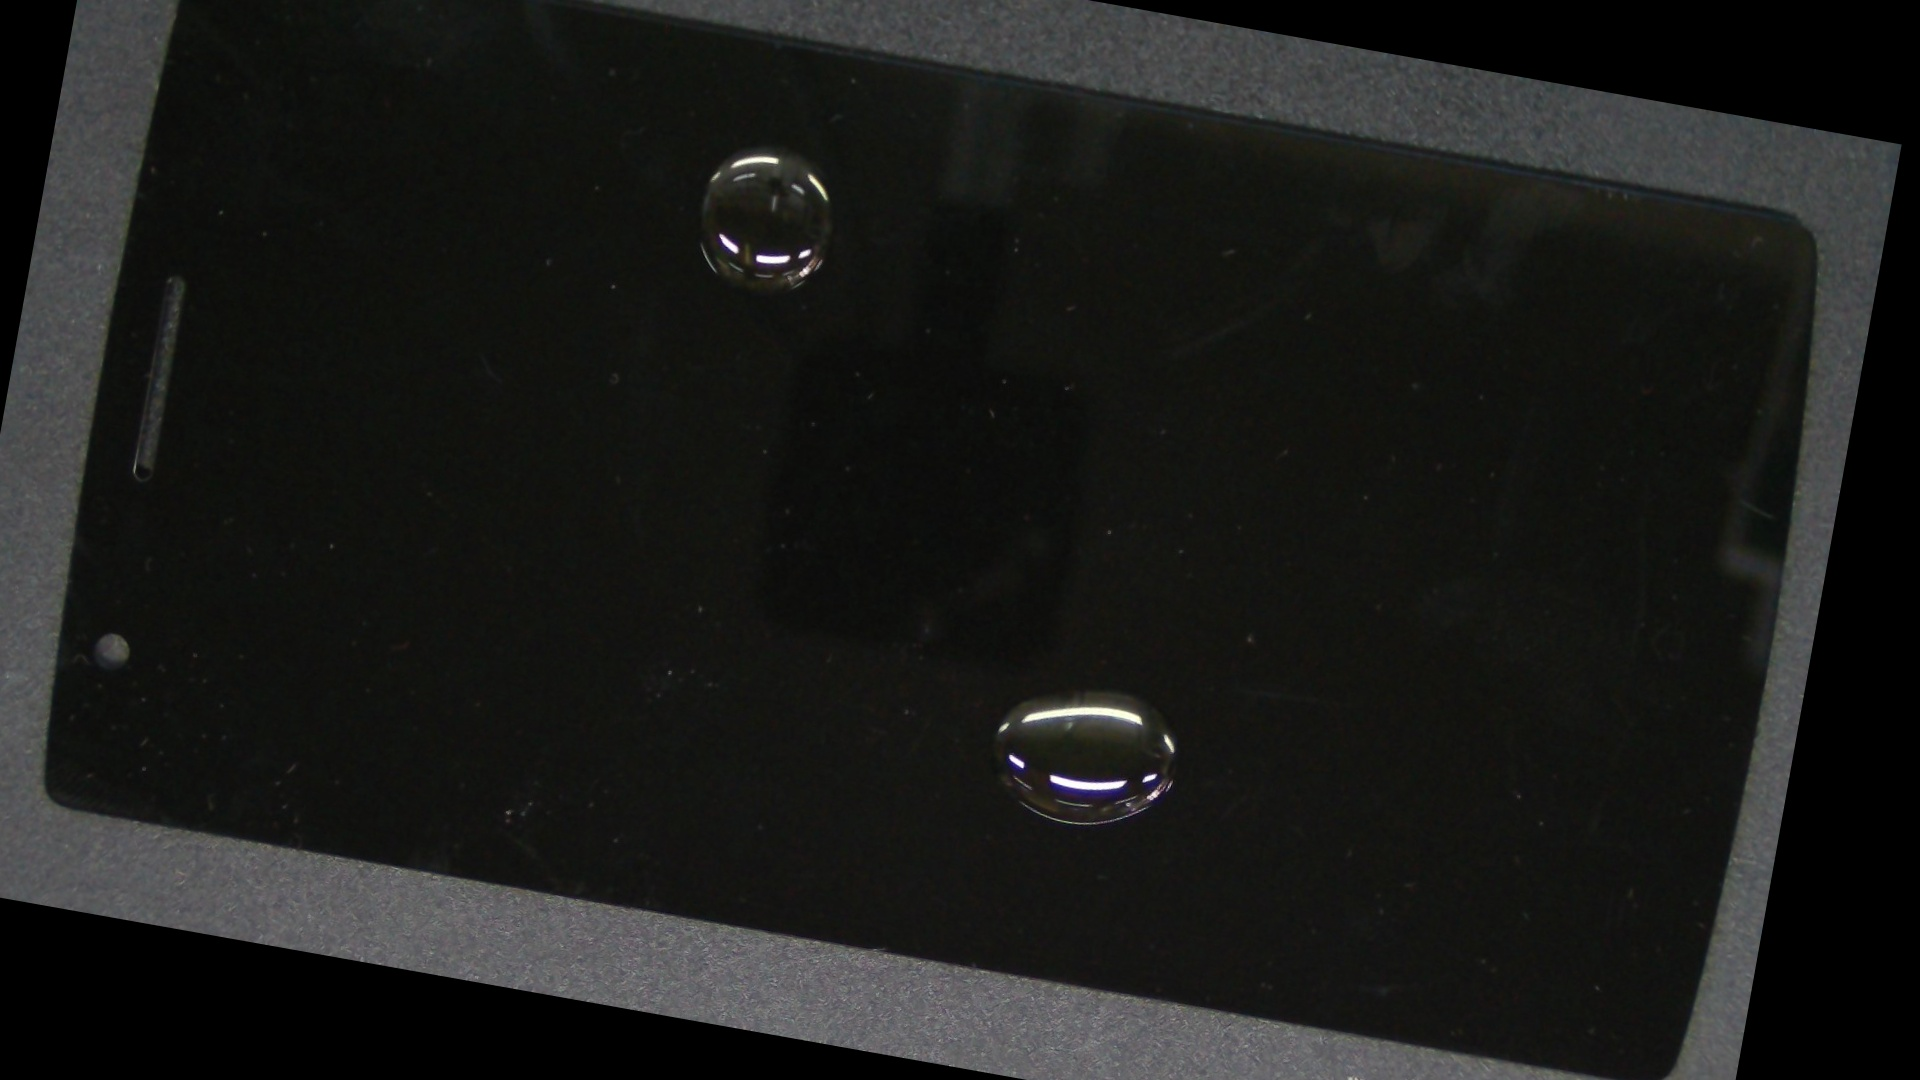oil: (489, 258, 1726, 1080), (414, 0, 1162, 307)
